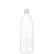plastic: (19, 9, 34, 54)
